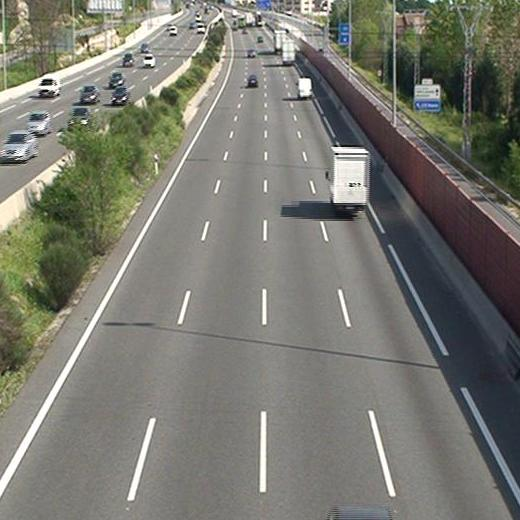car: (246, 74, 258, 86), (246, 48, 256, 56)
small-truck: (327, 145, 368, 213), (280, 39, 295, 63)
van: (297, 79, 313, 97)
